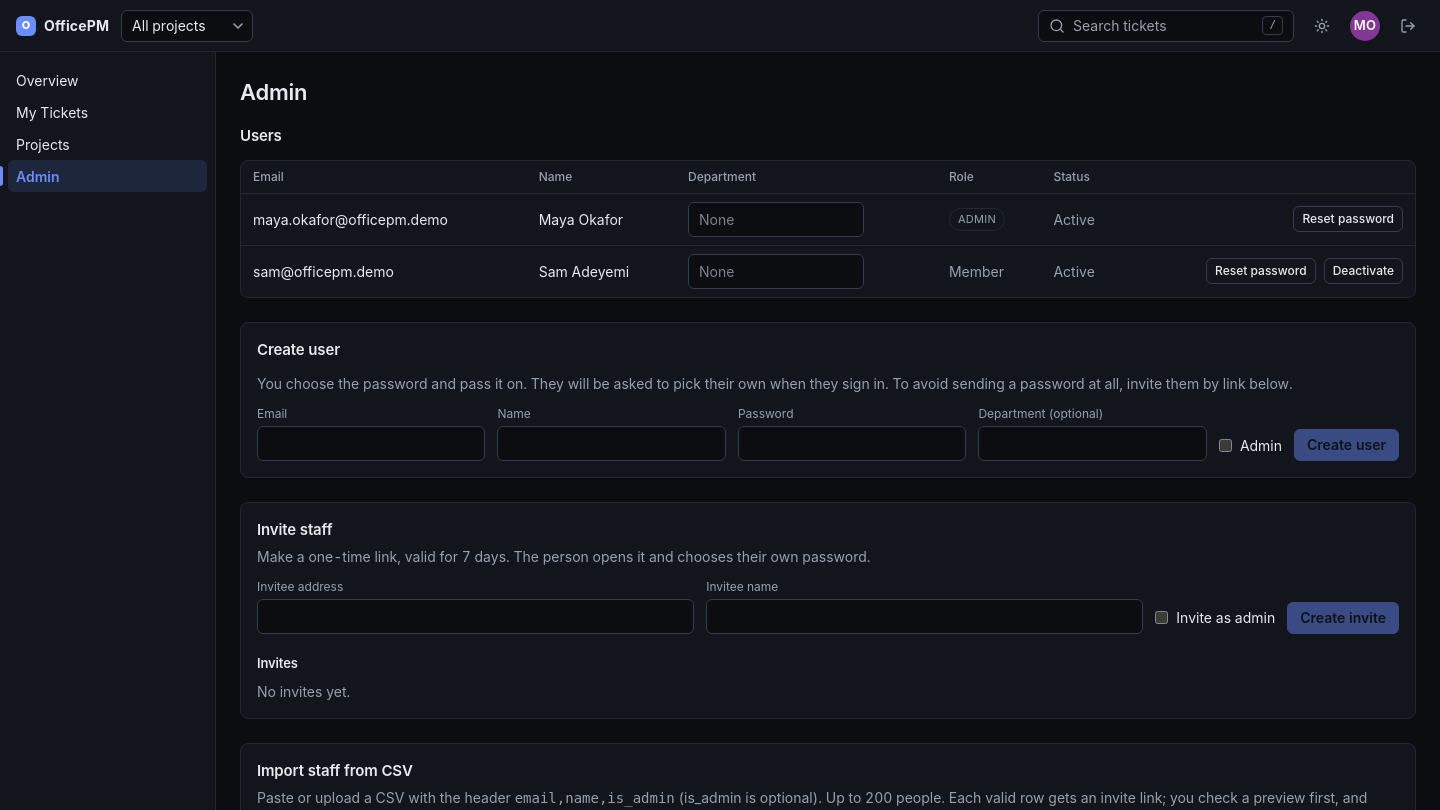
Test case: deactivating and reactivating people › shows the server message when the last admin cannot be deactivated
Click the button with aria-label "Deactivate Sam Adeyemi" at (1363, 271), box [1324,258,1403,284]
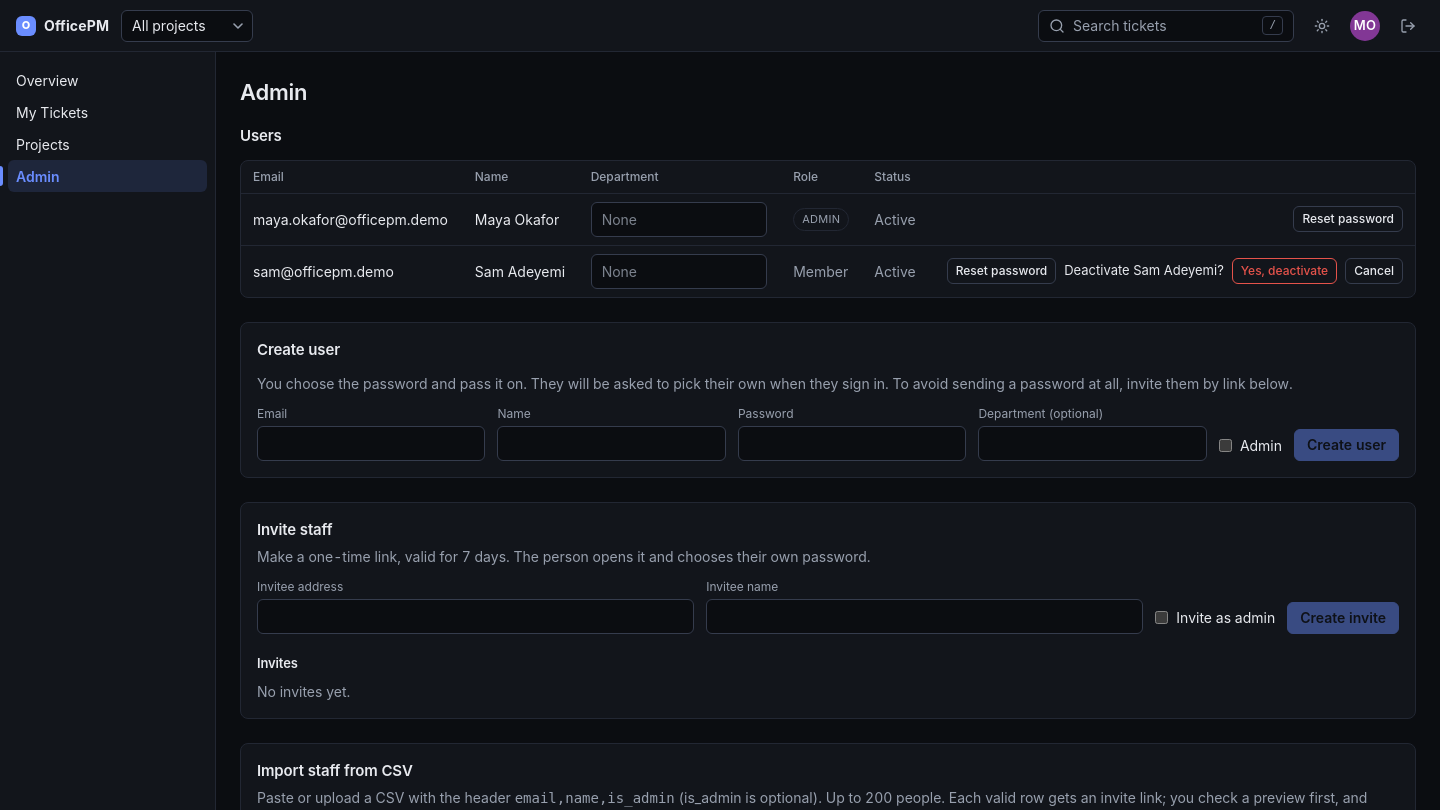
Click the button "Yes, deactivate" at (1284, 271), box [1232,258,1337,284]
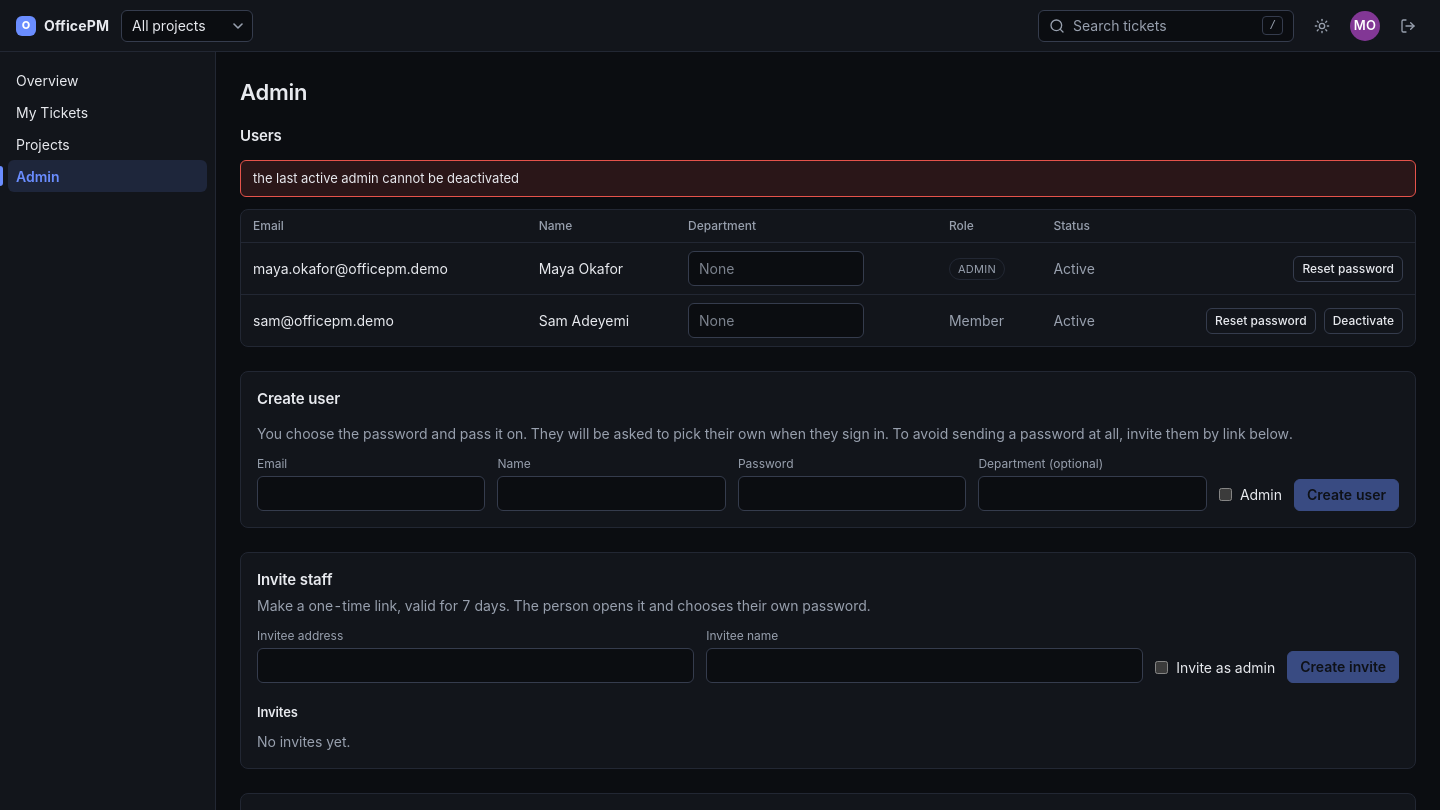
Result: the message shows "last active admin" at [253,170,519,186]
